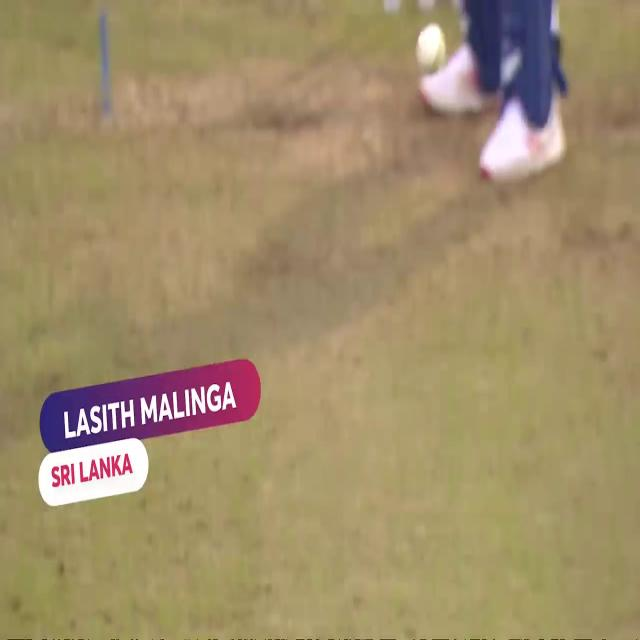ball: (412, 18, 446, 76)
